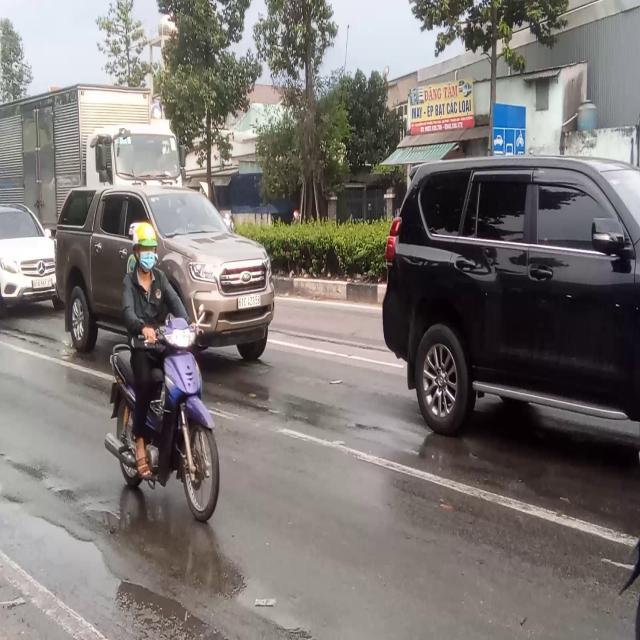bien_trang: (235, 295, 264, 311)
